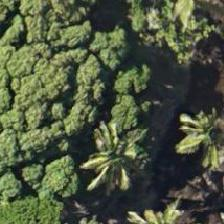coconut_tree: (54, 105, 144, 195), (160, 88, 223, 178)
